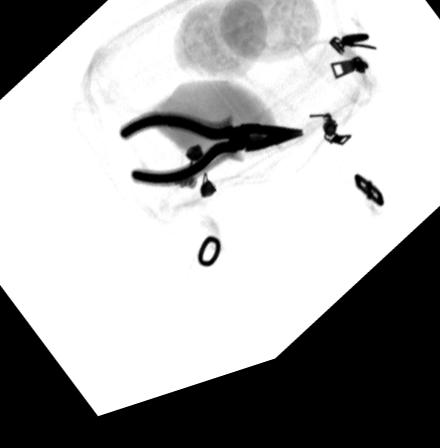Pliers: (116, 121, 304, 199)
